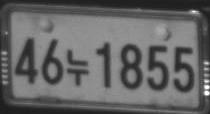1: (93, 42, 116, 88)
4: (14, 36, 38, 84)
5: (173, 45, 195, 92), (147, 45, 169, 90)
6: (41, 37, 64, 85)
8: (120, 43, 143, 89)
누: (65, 49, 89, 86)
